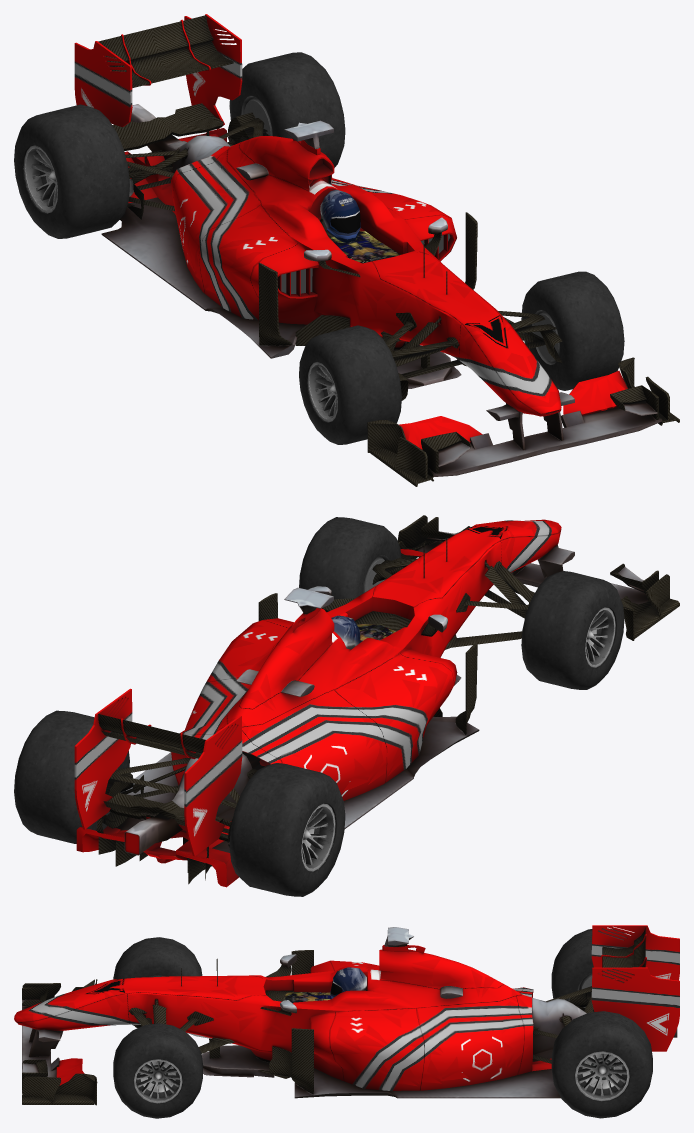
Rendered from f1_car.fbx.
3 renders of one model, top to bottom at view 1: azimuth 30°, elevation 25°; view 2: azimuth 150°, elevation 25°; view 3: azimuth 270°, elevation 25°, orthographic. The views are drawn at different scales.
Visible parts, largest first — view 1: f1_car_body, f1_car_rear_wheel_R, f1_car_front_wheel_R, f1_car_front_wheel_L, f1_car_rear_wheel_L, f1_car_pilot; view 2: f1_car_body, f1_car_rear_wheel_R, f1_car_front_wheel_R, f1_car_rear_wheel_L, f1_car_front_wheel_L, f1_car_pilot; view 3: f1_car_body, f1_car_rear_wheel_L, f1_car_front_wheel_L, f1_car_front_wheel_R, f1_car_rear_wheel_R, f1_car_pilot.
Boxes of the visible parts, x1=… form: f1_car_body: x1=74, y1=14, x2=679, y2=486; f1_car_rear_wheel_R: x1=14, y1=104, x2=129, y2=238; f1_car_front_wheel_R: x1=299, y1=325, x2=401, y2=444; f1_car_front_wheel_L: x1=521, y1=271, x2=624, y2=390; f1_car_rear_wheel_L: x1=229, y1=52, x2=345, y2=167; f1_car_pilot: x1=320, y1=189, x2=400, y2=263; f1_car_body: x1=74, y1=515, x2=679, y2=887; f1_car_rear_wheel_R: x1=229, y1=763, x2=345, y2=896; f1_car_front_wheel_R: x1=521, y1=571, x2=624, y2=689; f1_car_rear_wheel_L: x1=14, y1=710, x2=129, y2=843; f1_car_front_wheel_L: x1=299, y1=517, x2=401, y2=612; f1_car_pilot: x1=331, y1=611, x2=411, y2=649; f1_car_body: x1=14, y1=925, x2=679, y2=1105; f1_car_rear_wheel_L: x1=551, y1=1011, x2=652, y2=1118; f1_car_front_wheel_L: x1=113, y1=1023, x2=203, y2=1118; f1_car_front_wheel_R: x1=113, y1=937, x2=202, y2=1025; f1_car_rear_wheel_R: x1=551, y1=928, x2=627, y2=1011; f1_car_pilot: x1=265, y1=967, x2=366, y2=1003.
Bounding box in the file's own units: 227 × 134 × 593.
